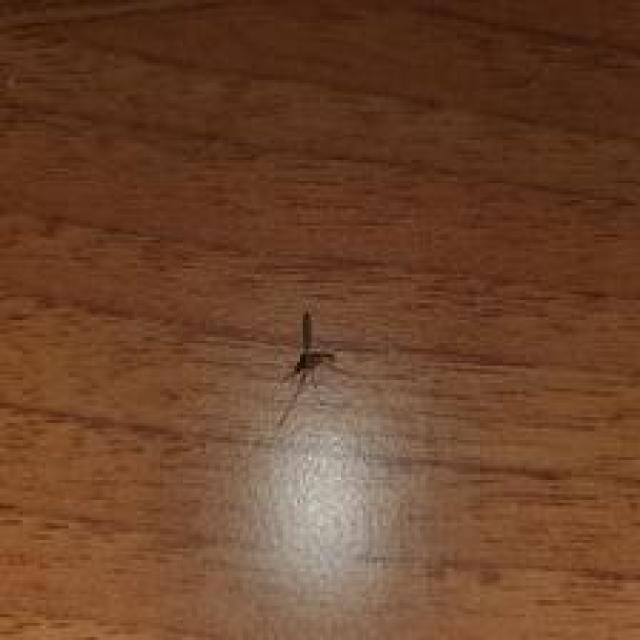Culex: (270, 308, 350, 428)
